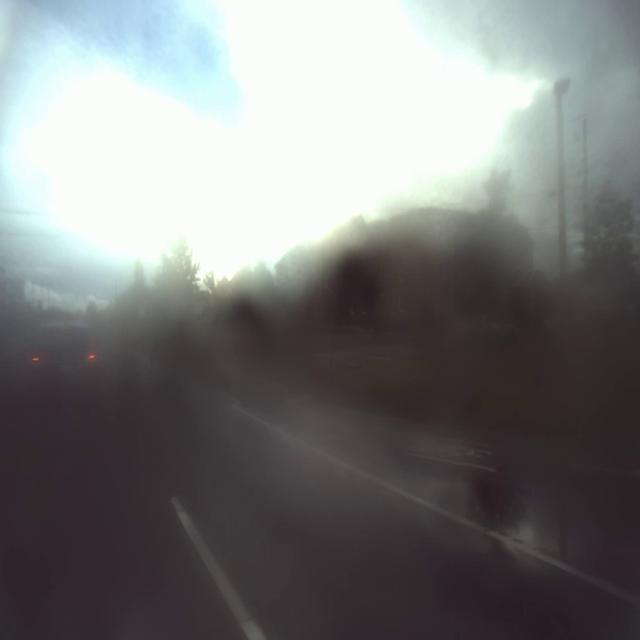car: (23, 307, 101, 415)
